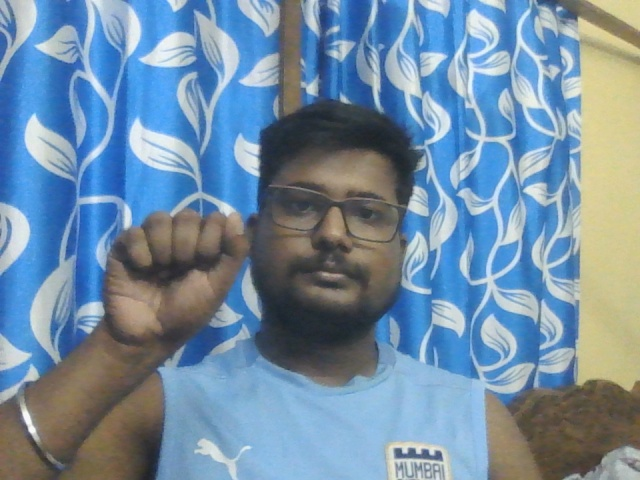A: (104, 209, 251, 341)
